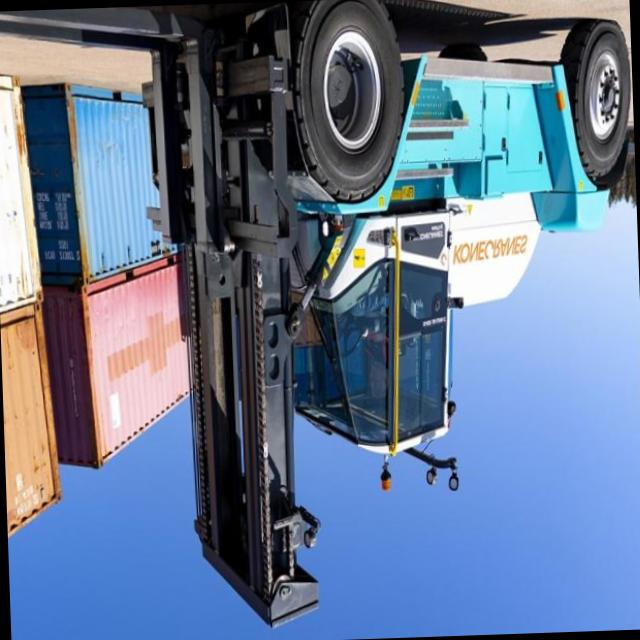driver: (348, 286, 399, 402)
forklift: (143, 0, 640, 639)
